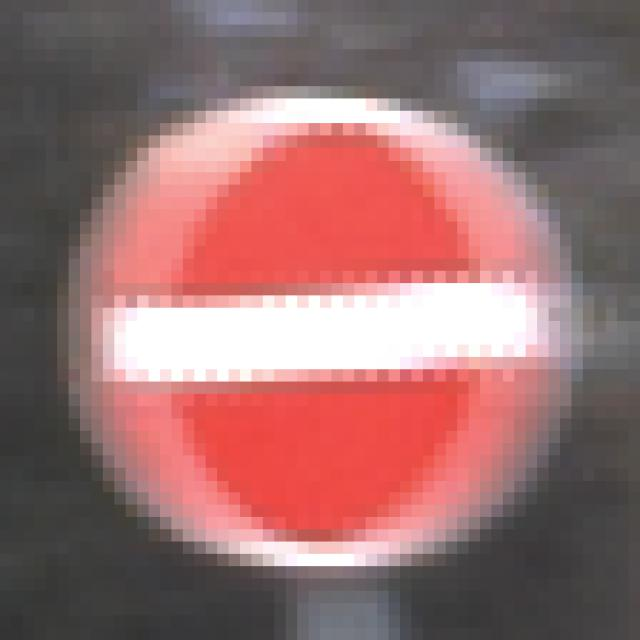No Entry: (69, 75, 584, 579)
